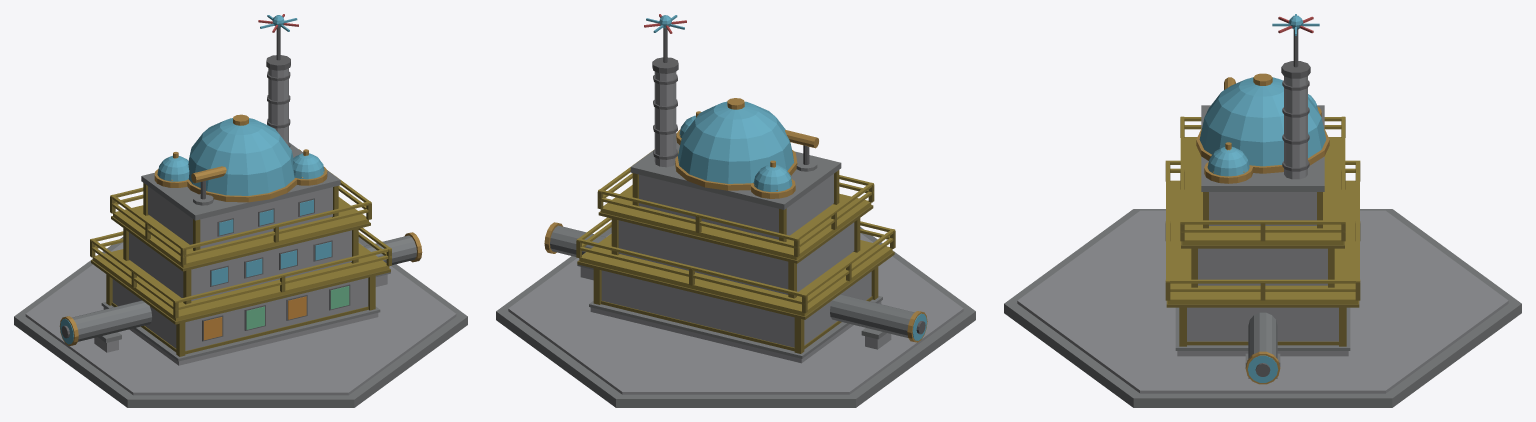
File: research_building_s2_ruin.glb
The picture shows the model from 3 angles, left to right: view 1: azimuth 30°, elevation 25°; view 2: azimuth 150°, elevation 25°; view 3: azimuth 270°, elevation 25°; orthographic projection. The views are drawn at different scales.
Visible parts, largest first — view 1: R_FoundRim, R_Foundation, R_DomeMain, R_MF_Walls, R_GF_Walls, R_Balcony1, R_UF_Walls, R_Balcony2, R_UFRoof, R_PipeStubW, R_PlinthCap, R_Plinth (+15 smaller); view 2: R_FoundRim, R_Foundation, R_GF_Walls, R_DomeMain, R_MF_Walls, R_UF_Walls, R_Balcony1, R_Balcony2, R_UFRoof, R_PipeStubW, R_Chimney, R_PlinthCap (+14 smaller); view 3: R_FoundRim, R_Foundation, R_DomeMain, R_Balcony1, R_Balcony2, R_GF_Walls, R_MF_Walls, R_UF_Walls, R_UFRoof, R_Chimney, R_PlinthCap, R_PipeStubE (+15 smaller).
Part boxes in pixels (box(x1,y1,x2,y2)): R_FoundRim: box(25, 242, 456, 395); R_Foundation: box(14, 237, 467, 407); R_DomeMain: box(188, 118, 294, 195); R_MF_Walls: box(129, 230, 351, 300); R_GF_Walls: box(112, 278, 368, 350); R_Balcony1: box(92, 243, 389, 321); R_UF_Walls: box(148, 186, 332, 248); R_Balcony2: box(113, 197, 368, 267); R_UFRoof: box(141, 143, 340, 220); R_PipeStubW: box(72, 300, 151, 341); R_PlinthCap: box(101, 302, 380, 361); R_Plinth: box(103, 307, 378, 365); R_FoundRim: box(508, 233, 963, 394); R_Foundation: box(496, 227, 975, 407); R_GF_Walls: box(601, 270, 871, 347); R_DomeMain: box(677, 101, 794, 183); R_MF_Walls: box(618, 220, 854, 294); R_UF_Walls: box(639, 174, 833, 239); R_Balcony1: box(579, 234, 892, 316); R_Balcony2: box(600, 185, 871, 259); R_UFRoof: box(630, 139, 841, 209); R_PipeStubW: box(830, 294, 914, 337); R_Chimney: box(654, 71, 676, 167); R_PlinthCap: box(589, 296, 882, 358); R_FoundRim: box(1017, 210, 1508, 393); R_Foundation: box(1004, 209, 1521, 407); R_DomeMain: box(1199, 77, 1326, 166); R_Balcony1: box(1168, 180, 1357, 303); R_Balcony2: box(1182, 137, 1343, 244); R_GF_Walls: box(1187, 307, 1338, 341); R_MF_Walls: box(1198, 248, 1327, 285); R_UF_Walls: box(1209, 192, 1316, 225); R_UFRoof: box(1201, 105, 1324, 191); R_Chimney: box(1284, 76, 1307, 179); R_PlinthCap: box(1175, 307, 1350, 350); R_PipeStubE: box(1248, 312, 1277, 358).
Size of the model in its own units: 3.51 by 2.73 by 3.92.
